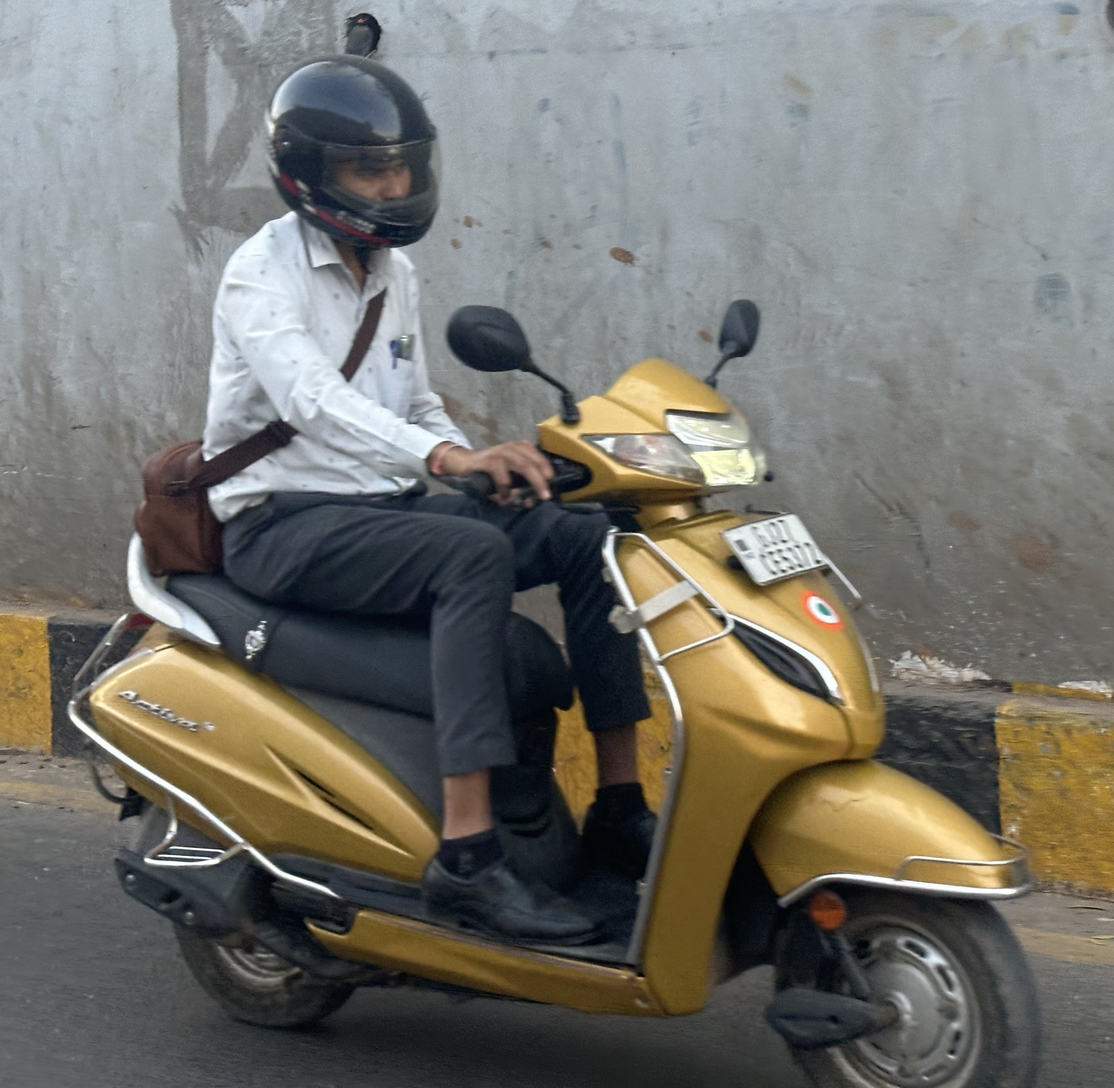BikeWithRider: (52, 52, 1049, 1088)
Helmet: (250, 56, 456, 261)
